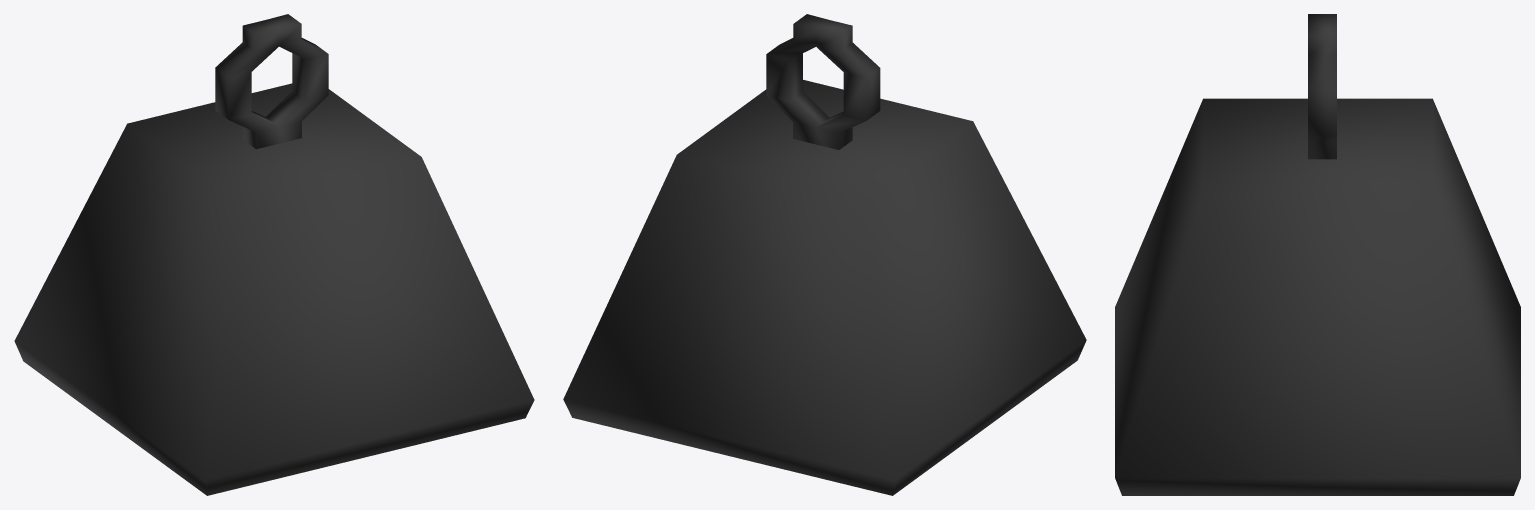
The model's file is Pesos.fbx.
The picture shows the model from 3 angles, left to right: view 1: azimuth 30°, elevation 25°; view 2: azimuth 150°, elevation 25°; view 3: azimuth 270°, elevation 25°; orthographic projection. The views are drawn at different scales.
Visible parts, largest first — view 1: Cube; view 2: Cube; view 3: Cube.
Boxes of the visible parts, <box> form: Cube: <box>14,14,534,495</box>; Cube: <box>563,14,1086,495</box>; Cube: <box>1115,14,1520,495</box>.
Size of the model in its own units: 84.14 by 88.72 by 84.14.
